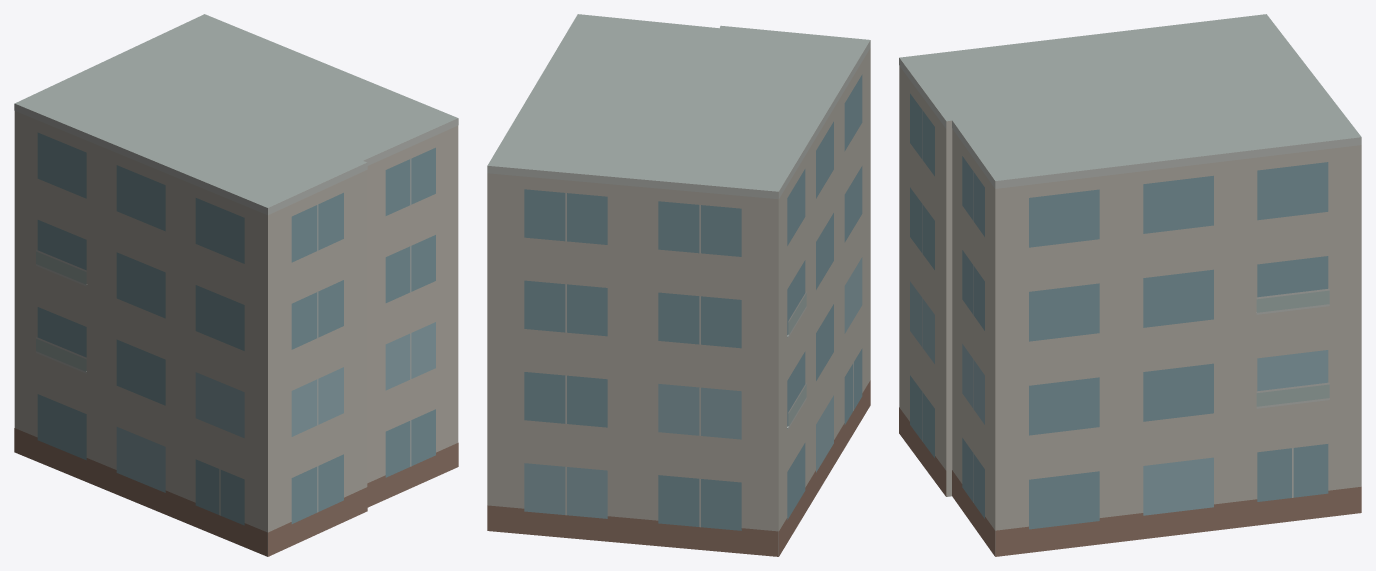
Rendered from survey-upis-32524708.glb.
3 views of the same model, side by side, from view 1: azimuth 30°, elevation 25°; view 2: azimuth 150°, elevation 25°; view 3: azimuth 270°, elevation 25° (orthographic). The views are drawn at different scales.
Parts seen in each view (by area): view 1: survey-upis-32524708.tmp; view 2: survey-upis-32524708.tmp; view 3: survey-upis-32524708.tmp.
Part boxes in pixels (x1,y1,x2,y2): survey-upis-32524708.tmp: (14,14,458,556); survey-upis-32524708.tmp: (487,14,870,556); survey-upis-32524708.tmp: (899,14,1361,556).
Bounding box in the file's own units: 11.27 × 11.8 × 13.18.
